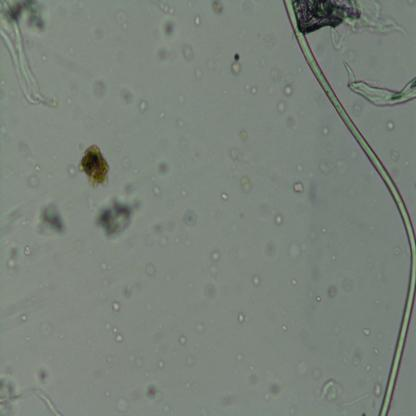Background material: (92, 190, 146, 244), (80, 139, 111, 190), (38, 202, 67, 235), (0, 201, 22, 238), (160, 10, 180, 43), (20, 142, 40, 170), (149, 218, 169, 246), (320, 378, 341, 404), (4, 240, 19, 273), (288, 238, 308, 262), (308, 167, 322, 200), (256, 239, 278, 260), (200, 272, 216, 300), (116, 83, 134, 106), (112, 392, 129, 416), (37, 318, 57, 338), (37, 363, 54, 386), (338, 274, 356, 295), (156, 155, 171, 180), (89, 17, 104, 41), (182, 206, 198, 228), (180, 374, 198, 393), (180, 41, 196, 62), (146, 380, 162, 400), (153, 49, 171, 66), (352, 98, 367, 118), (230, 51, 242, 76), (95, 260, 118, 273), (93, 79, 107, 100), (244, 78, 260, 96), (27, 170, 42, 189), (120, 280, 134, 300), (117, 9, 130, 30), (295, 358, 310, 376), (208, 55, 222, 74), (268, 380, 283, 397), (241, 174, 253, 195), (98, 350, 116, 364), (130, 350, 144, 368), (268, 63, 280, 83), (318, 158, 332, 175), (137, 96, 149, 115), (250, 271, 261, 291), (351, 348, 362, 368), (112, 326, 124, 344), (183, 350, 195, 368), (171, 229, 183, 246), (373, 381, 384, 399), (283, 116, 297, 130), (145, 262, 157, 278), (293, 180, 305, 196), (236, 127, 248, 143), (245, 373, 259, 386), (196, 402, 209, 416), (212, 0, 225, 14), (326, 284, 338, 299), (311, 365, 323, 380), (340, 46, 352, 61), (229, 142, 239, 160), (195, 320, 206, 336), (348, 146, 359, 162), (282, 84, 294, 98), (192, 66, 203, 80), (68, 161, 77, 178), (276, 99, 286, 114), (174, 91, 184, 106), (389, 150, 401, 162), (152, 184, 163, 197), (112, 298, 122, 312), (178, 333, 188, 347), (219, 191, 231, 202), (236, 311, 246, 324), (210, 249, 220, 262), (392, 244, 402, 257), (163, 1, 173, 14), (23, 245, 33, 258), (363, 360, 371, 375), (262, 389, 270, 404), (233, 350, 243, 362), (156, 108, 166, 120), (275, 213, 284, 226), (320, 222, 329, 235), (18, 310, 27, 323), (386, 120, 396, 131), (182, 236, 192, 247), (9, 87, 18, 99), (162, 401, 171, 413), (176, 117, 185, 129), (321, 125, 330, 136), (289, 276, 298, 287), (194, 14, 201, 28), (341, 353, 348, 367), (280, 322, 289, 332), (314, 292, 322, 303), (363, 327, 372, 336), (180, 187, 188, 197), (102, 278, 110, 288), (103, 387, 110, 398), (295, 62, 302, 73), (298, 163, 304, 175), (372, 344, 378, 356), (155, 358, 163, 367), (21, 220, 30, 228), (330, 249, 336, 261), (66, 95, 73, 105), (238, 209, 245, 219), (57, 330, 64, 340), (247, 363, 254, 372), (300, 109, 307, 118), (108, 325, 112, 332)
Cellulose filter fibre: (0, 0, 60, 112), (300, 1, 416, 45), (345, 55, 416, 107), (0, 378, 62, 414)
Glass filter fibre: (340, 392, 370, 407)
Microfibre: (282, 0, 416, 416)
